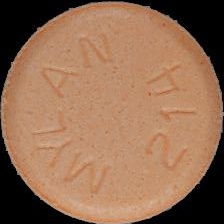51079-735: (0, 0, 224, 224)
